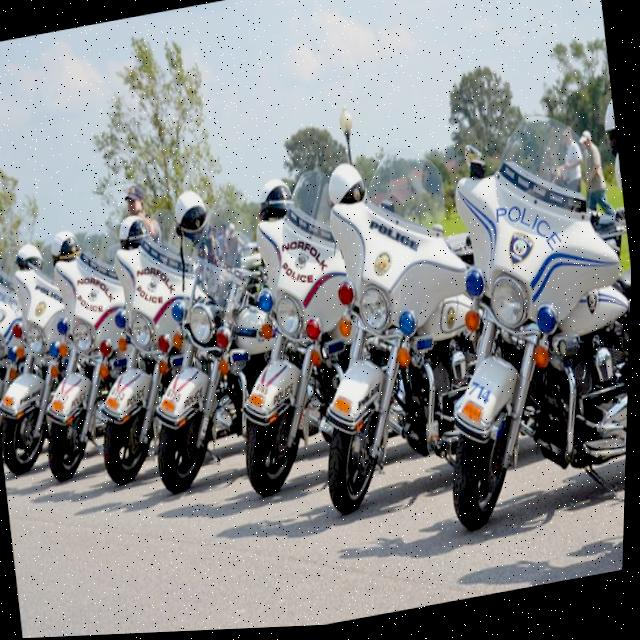motorcycle: (393, 125, 635, 555), (272, 134, 520, 529), (193, 159, 380, 546), (114, 189, 301, 507), (56, 190, 228, 498), (0, 209, 93, 493)
